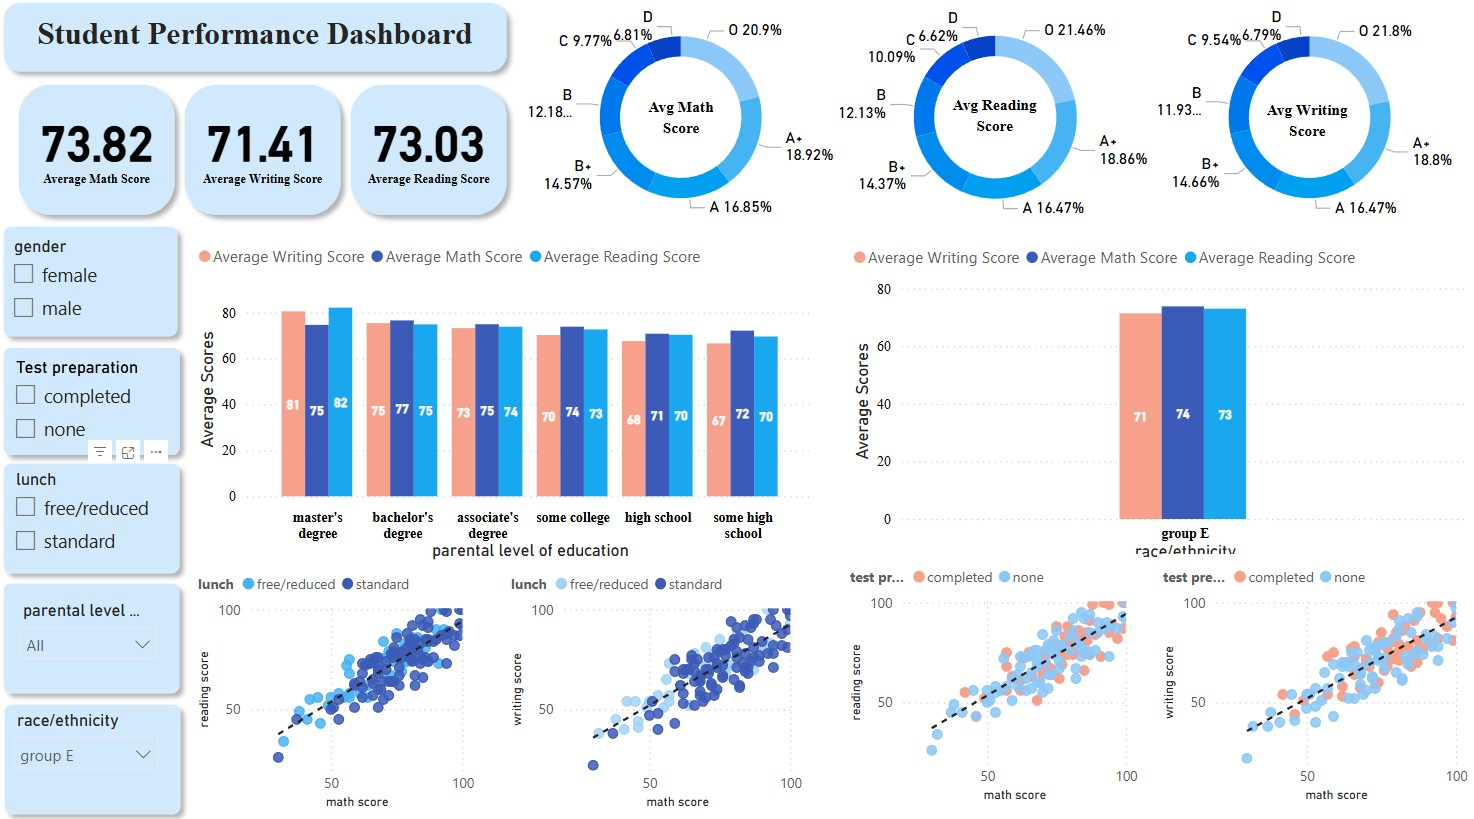

What the dashboard file says about the page in this screenshot:
{"tool":"powerbi","page":{"name":"Page 1","canvas":[1280,720],"ordinal":0},"visuals":[{"type":"shape","box":[0,0,453.3,77.8],"z":0},{"type":"textbox","box":[21.1,15.6,411.1,46.7],"z":1000},{"type":"group","id":"g1","title":"Group 1","box":[13.3,71.1,153.3,131.1],"z":2000},{"type":"shape","box":[2.2,202.2,202.2,157.8],"z":2000,"group":"g8"},{"type":"shape","box":[0,527.8,202.2,157],"z":2000,"group":"g9"},{"type":"shape","box":[0,365.6,202.2,157],"z":3000},{"type":"group","id":"g2","title":"Group 1","box":[156.7,71.1,153.3,131.1],"z":4000},{"type":"donutChart","fields":{"Category":["StudentsPerformance.Grade"],"Y":["StudentsPerformance.Average Math Score"]},"box":[453.3,7.8,283.3,201.1],"z":5000,"group":"g5"},{"type":"group","id":"g3","title":"Group 1","box":[299.6,71.1,153.3,131.1],"z":5000},{"type":"donutChart","fields":{"Category":["StudentsPerformance.Grade"],"Y":["StudentsPerformance.Average Reading Score"]},"box":[721.1,7.8,291.1,201.1],"z":6000,"group":"g6"},{"type":"group","id":"g4","title":"Group 4","box":[996.7,7.8,283.3,201.1],"z":6000},{"type":"group","id":"g5","title":"Group 5","box":[453.3,7.8,283.3,201.1],"z":7000},{"type":"textbox","box":[552.2,84.5,86.7,47.8],"z":7000,"group":"g5"},{"type":"shape","box":[13.3,71.1,153.3,131.1],"z":7500,"group":"g1"},{"type":"shape","box":[156.7,71.1,153.3,131.1],"z":7500,"group":"g2"},{"type":"shape","box":[299.6,71.1,153.3,131.1],"z":7500,"group":"g3"},{"type":"group","id":"g6","title":"Group 6","box":[721.1,7.8,291.1,201.1],"z":8000},{"type":"textbox","box":[814.4,83.4,103.3,51.1],"z":8000,"group":"g6"},{"type":"clusteredColumnChart","fields":{"Category":["StudentsPerformance.parental level of education"],"Y":["StudentsPerformance.Average Writing Score","StudentsPerformance.Average Math Score","StudentsPerformance.Average Reading Score"]},"box":[204.4,208.9,542.2,287.8],"z":9000},{"type":"card","fields":{"Values":["StudentsPerformance.Average Math Score"]},"box":[27.7,91.1,124.4,83.3],"z":10000,"group":"g1"},{"type":"card","fields":{"Values":["StudentsPerformance.Average Writing Score"]},"box":[171.1,91.1,124.4,83.3],"z":10000,"group":"g2"},{"type":"card","fields":{"Values":["StudentsPerformance.Average Reading Score"]},"box":[314,91.1,124.4,83.3],"z":10000,"group":"g3"},{"type":"clusteredColumnChart","fields":{"Y":["StudentsPerformance.Average Writing Score","StudentsPerformance.Average Math Score","StudentsPerformance.Average Reading Score"],"Category":["StudentsPerformance.race/ethnicity"]},"box":[737.8,208.9,542.2,287.8],"z":10000},{"type":"group","id":"g7","title":"Group 7","box":[996.7,7.8,283,201.1],"z":10003,"group":"g4"},{"type":"pieChart","fields":{"Y":["CountNonNull(StudentsPerformance.gender)"],"Category":["StudentsPerformance.gender"]},"box":[2.2,215.8,200,131.6],"z":10007,"group":"g8"},{"type":"pieChart","fields":{"Category":["StudentsPerformance.lunch"],"Y":["CountNonNull(StudentsPerformance.lunch)"]},"box":[0,541.3,200,131],"z":10007,"group":"g9"},{"type":"group","id":"g8","title":"Group 2","box":[2.2,202.2,202.2,157.8],"z":11000},{"type":"pieChart","fields":{"Category":["StudentsPerformance.test preparation course"],"Y":["CountNonNull(StudentsPerformance.test preparation course)"]},"box":[0,379,200,131],"z":12000},{"type":"group","id":"g9","title":"Group 2","box":[0,527.8,202.2,156.7],"z":13000},{"type":"donutChart","fields":{"Category":["StudentsPerformance.Grade"],"Y":["StudentsPerformance.Average Writing Score"]},"box":[996.7,7.8,283,201.1],"z":14000,"group":"g7"},{"type":"scatterChart","fields":{"Y":["StudentsPerformance.writing score"],"Series":["StudentsPerformance.lunch"],"X":["StudentsPerformance.math score"]},"box":[463.7,496.7,262.2,218.9],"z":14000},{"type":"scatterChart","fields":{"X":["StudentsPerformance.math score"],"Y":["StudentsPerformance.reading score"],"Series":["StudentsPerformance.lunch"]},"box":[204.4,496.7,248.9,218.9],"z":15000},{"type":"textbox","box":[1090.3,87.4,92.2,51.1],"z":15002,"group":"g7"},{"type":"scatterChart","fields":{"X":["StudentsPerformance.math score"],"Y":["StudentsPerformance.reading score"],"Series":["StudentsPerformance.test preparation course"]},"box":[736.3,496.7,258.9,218.9],"z":16000},{"type":"scatterChart","fields":{"X":["StudentsPerformance.math score"],"Y":["StudentsPerformance.writing score"],"Series":["StudentsPerformance.test preparation course"]},"box":[1005.6,496.7,274.4,218.9],"z":17000}]}

Visuals, with their boxes in screenshot pixels (x1, y1, x2, y2), scaled from the page's 1280x720 canvas onto the 1474x819 screenshot:
shape: x1=0, y1=0, x2=522, y2=88
textbox: x1=24, y1=18, x2=498, y2=71
"Group 1" group: x1=15, y1=81, x2=192, y2=230
shape: x1=3, y1=230, x2=235, y2=410
shape: x1=0, y1=600, x2=233, y2=779
shape: x1=0, y1=416, x2=233, y2=594
"Group 1" group: x1=180, y1=81, x2=357, y2=230
donutChart - StudentsPerformance.Grade x StudentsPerformance.Average Math Score: x1=522, y1=9, x2=848, y2=238
"Group 1" group: x1=345, y1=81, x2=522, y2=230
donutChart - StudentsPerformance.Grade x StudentsPerformance.Average Reading Score: x1=830, y1=9, x2=1166, y2=238
"Group 4" group: x1=1148, y1=9, x2=1473, y2=238
"Group 5" group: x1=522, y1=9, x2=848, y2=238
textbox: x1=636, y1=96, x2=736, y2=150
shape: x1=15, y1=81, x2=192, y2=230
shape: x1=180, y1=81, x2=357, y2=230
shape: x1=345, y1=81, x2=522, y2=230
"Group 6" group: x1=830, y1=9, x2=1166, y2=238
textbox: x1=938, y1=95, x2=1057, y2=153
clusteredColumnChart - StudentsPerformance.parental level of education x StudentsPerformance.Average Writing Score: x1=235, y1=238, x2=860, y2=565
card - StudentsPerformance.Average Math Score: x1=32, y1=104, x2=175, y2=198
card - StudentsPerformance.Average Writing Score: x1=197, y1=104, x2=340, y2=198
card - StudentsPerformance.Average Reading Score: x1=362, y1=104, x2=505, y2=198
clusteredColumnChart - StudentsPerformance.Average Writing Score x StudentsPerformance.Average Math Score: x1=850, y1=238, x2=1473, y2=565
"Group 7" group: x1=1148, y1=9, x2=1473, y2=238
pieChart - CountNonNull(StudentsPerformance.gender) x StudentsPerformance.gender: x1=3, y1=245, x2=233, y2=395
pieChart - StudentsPerformance.lunch x CountNonNull(StudentsPerformance.lunch): x1=0, y1=616, x2=230, y2=765
"Group 2" group: x1=3, y1=230, x2=235, y2=410
pieChart - StudentsPerformance.test preparation course x CountNonNull(StudentsPerformance.test preparation course): x1=0, y1=431, x2=230, y2=580
"Group 2" group: x1=0, y1=600, x2=233, y2=779
donutChart - StudentsPerformance.Grade x StudentsPerformance.Average Writing Score: x1=1148, y1=9, x2=1473, y2=238
scatterChart - StudentsPerformance.writing score x StudentsPerformance.lunch: x1=534, y1=565, x2=836, y2=814
scatterChart - StudentsPerformance.math score x StudentsPerformance.reading score: x1=235, y1=565, x2=522, y2=814
textbox: x1=1256, y1=99, x2=1362, y2=158
scatterChart - StudentsPerformance.math score x StudentsPerformance.reading score: x1=848, y1=565, x2=1146, y2=814
scatterChart - StudentsPerformance.math score x StudentsPerformance.writing score: x1=1158, y1=565, x2=1473, y2=814
